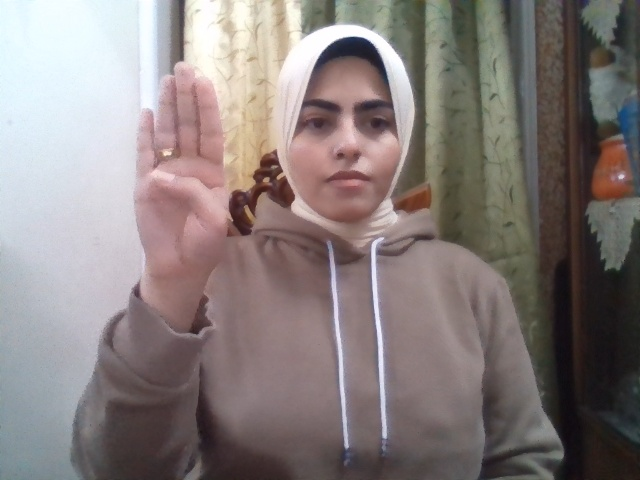B: (133, 61, 227, 280)
